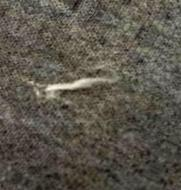snag: (38, 67, 115, 100)
